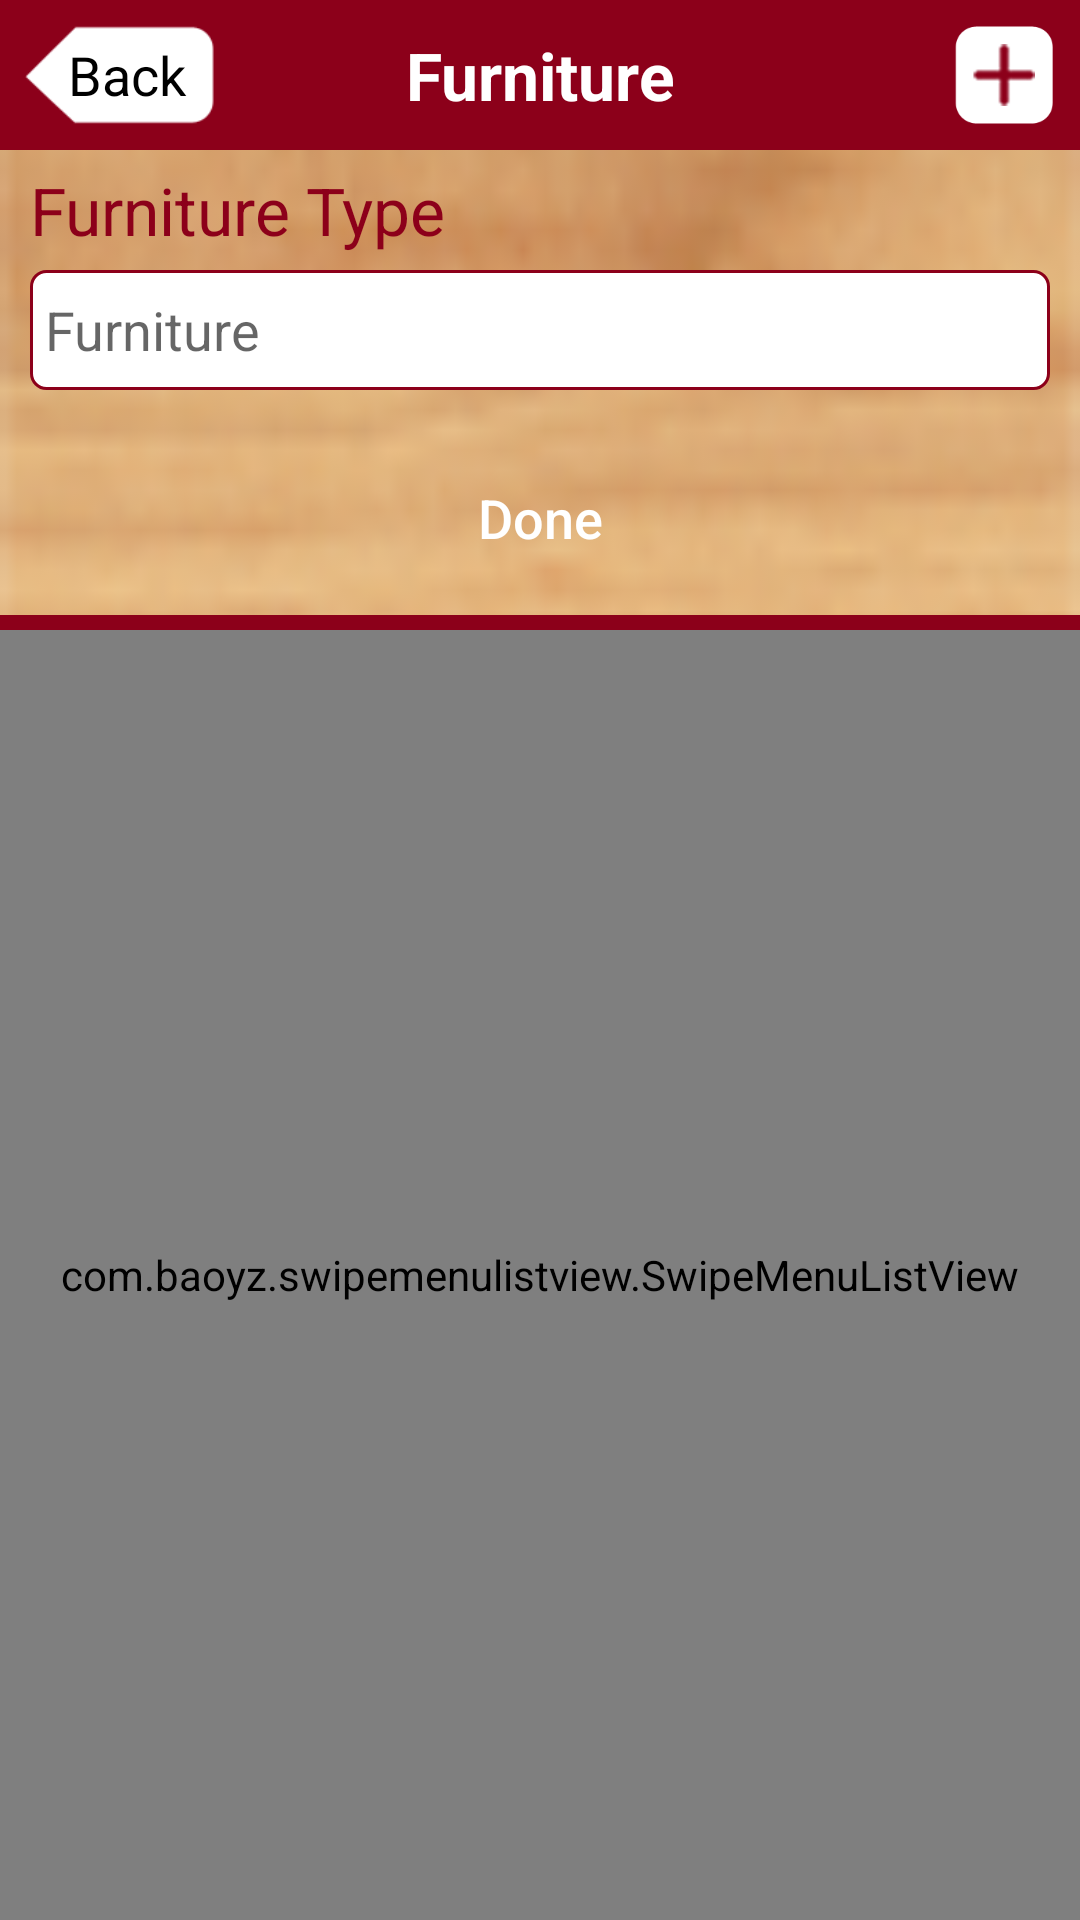

Icons on this 1080 x 1920 Android screen, each with its box as (x1, y1, x2, y2):
plus: (955, 26, 1053, 124)
